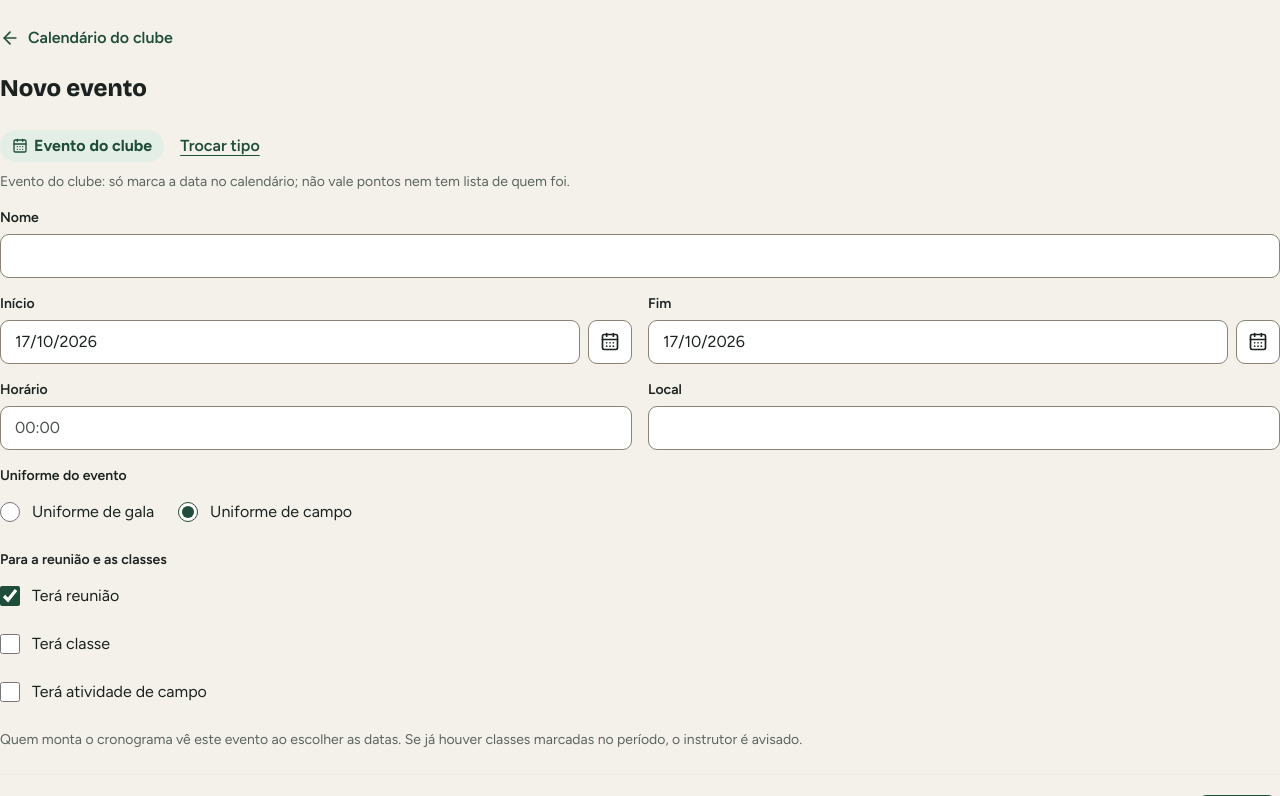
Novo evento · formulário com o tipo escolhido › mudar só uma marcação também conta como preenchido
Click the checkbox labelled "Terá classe" at [10, 644], box left=0, top=634, right=20, bottom=654
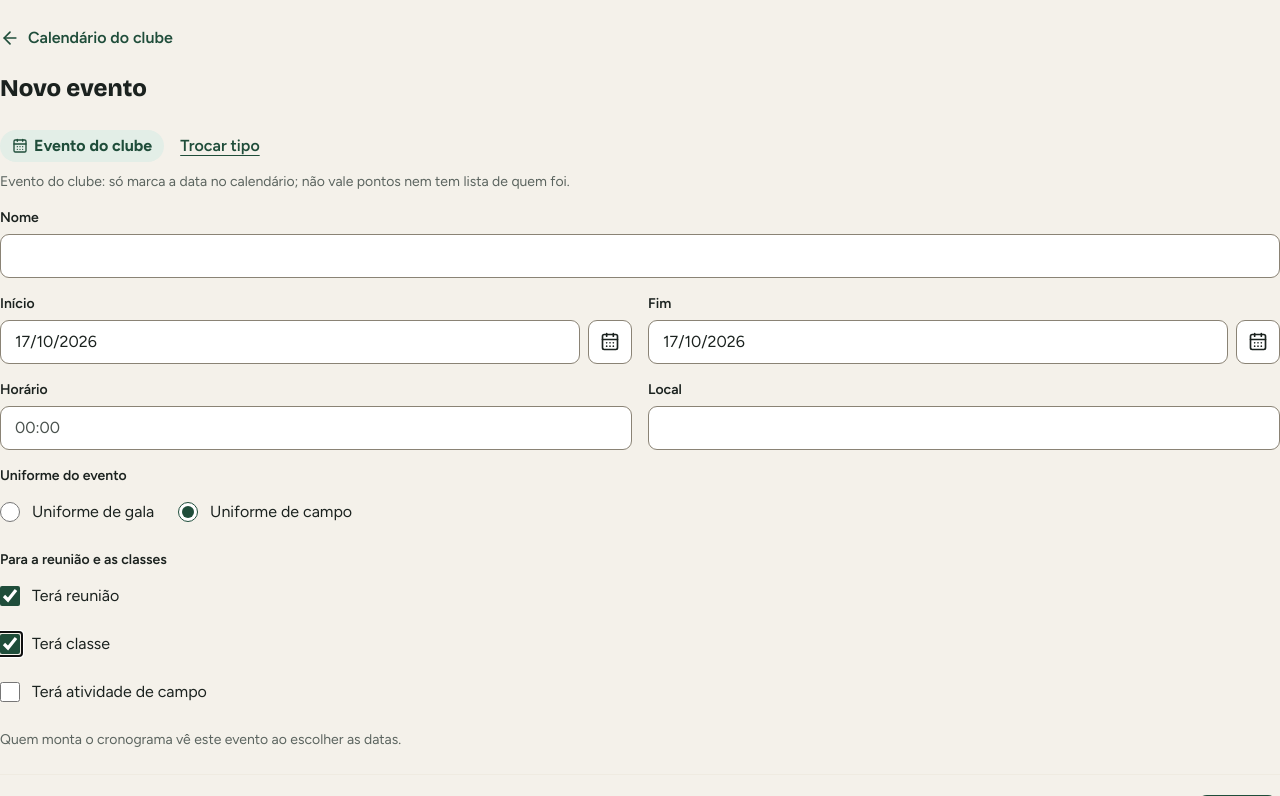
Click the link "Trocar tipo" at [220, 146], box left=180, top=136, right=260, bottom=155
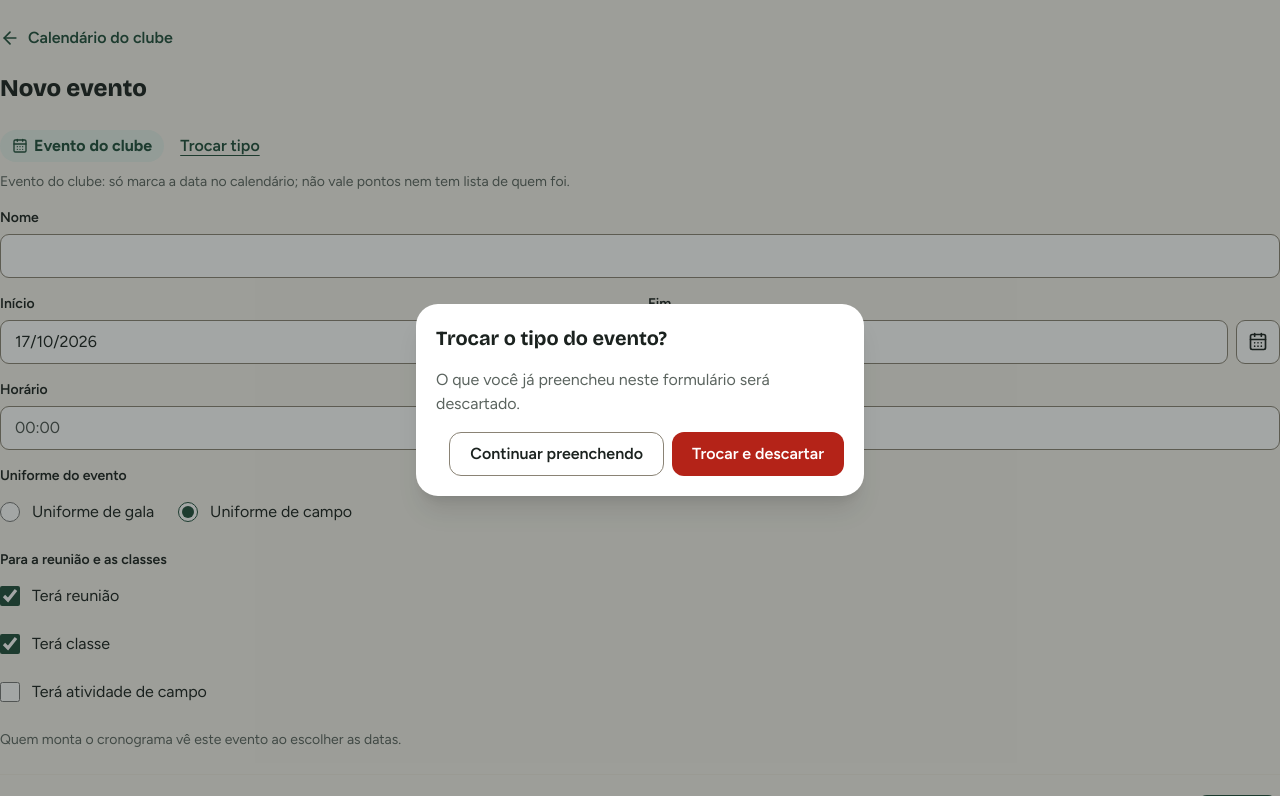
expect the dialog "Trocar o tipo do evento?" is shown: met, box left=416, top=304, right=864, bottom=496
